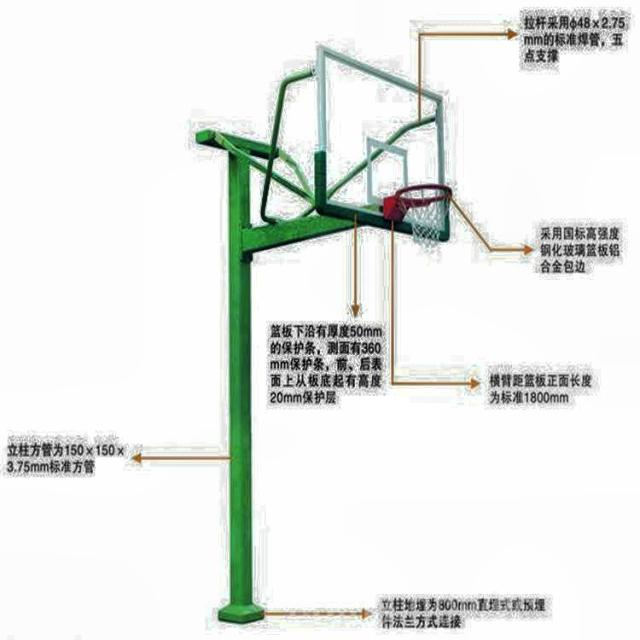rim: (396, 184, 454, 246)
